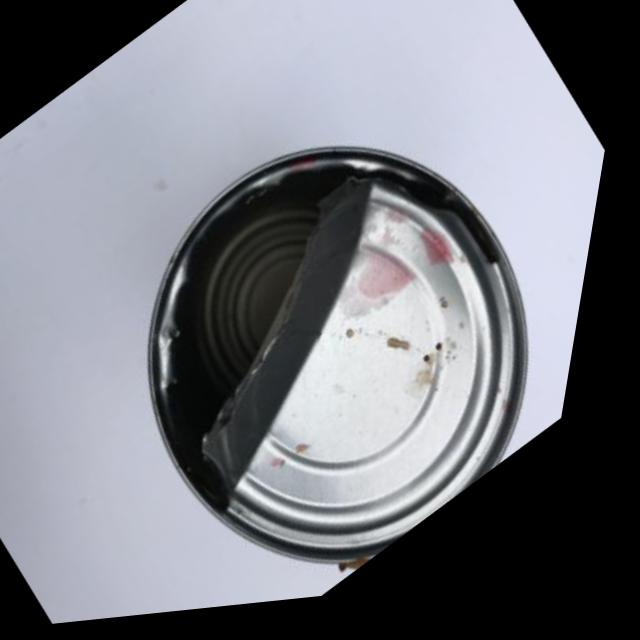metal: (18, 34, 629, 632)
